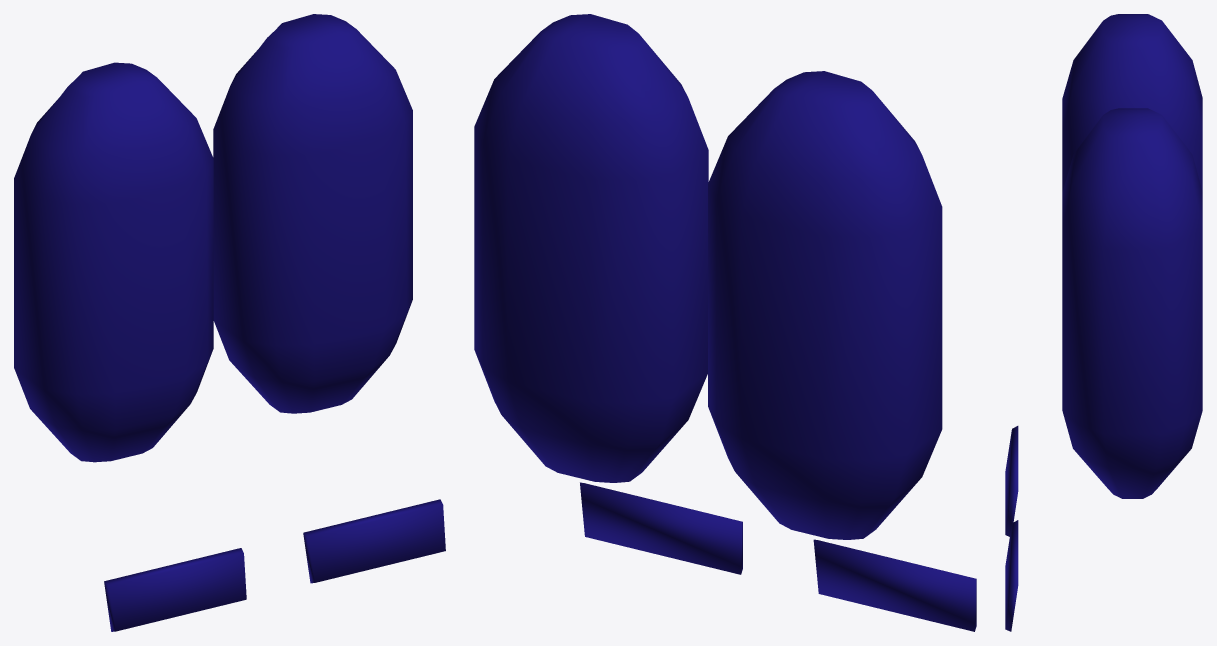
Rendered from key 1.fbx.
3 renders of one model, left to right at view 1: azimuth 30°, elevation 25°; view 2: azimuth 150°, elevation 25°; view 3: azimuth 270°, elevation 25°, orthographic. The views are drawn at different scales.
Visible parts, largest first — view 1: key1_low, key3_low, key2_low, key4_low; view 2: key1_low, key3_low, key2_low, key4_low; view 3: key3_low, key1_low, key4_low, key2_low.
Boxes of the visible parts, bbox=[...] form: key1_low: bbox=[14, 62, 213, 462]; key3_low: bbox=[213, 14, 412, 413]; key2_low: bbox=[104, 548, 246, 631]; key4_low: bbox=[303, 499, 445, 583]; key1_low: bbox=[708, 71, 942, 539]; key3_low: bbox=[474, 14, 708, 482]; key2_low: bbox=[813, 539, 976, 631]; key4_low: bbox=[580, 482, 742, 574]; key3_low: bbox=[1062, 108, 1202, 498]; key1_low: bbox=[1062, 14, 1202, 192]; key4_low: bbox=[1005, 520, 1018, 631]; key2_low: bbox=[1005, 426, 1018, 536].
Size of the model in its own units: 103 by 49.05 by 131.
